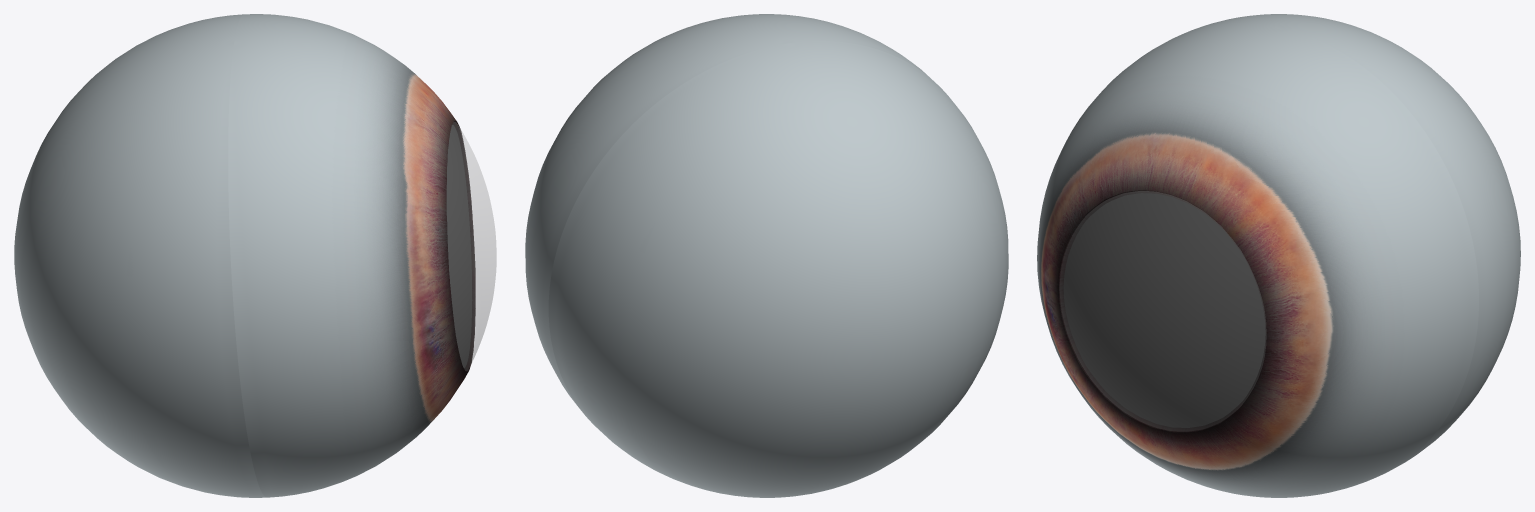
The picture shows the model from 3 angles, left to right: view 1: azimuth 30°, elevation 25°; view 2: azimuth 150°, elevation 25°; view 3: azimuth 270°, elevation 25°; orthographic projection.
Visible parts, largest first — view 1: Cornea_Back, Glass_Cover, Pupil_Placeholder; view 2: Cornea_Back; view 3: Cornea_Back, Glass_Cover, Pupil_Placeholder.
Boxes of the visible parts, bbox=[...] form: Cornea_Back: bbox=[14, 14, 475, 497]; Glass_Cover: bbox=[447, 122, 496, 370]; Pupil_Placeholder: bbox=[446, 125, 472, 367]; Cornea_Back: bbox=[525, 14, 1008, 497]; Cornea_Back: bbox=[1037, 14, 1520, 497]; Glass_Cover: bbox=[1060, 191, 1266, 431]; Pupil_Placeholder: bbox=[1063, 193, 1265, 427].
Size of what is drawn, in the model's own units: 0.9993 by 0.9998 by 0.9995.
3 materials, 1 textured.
